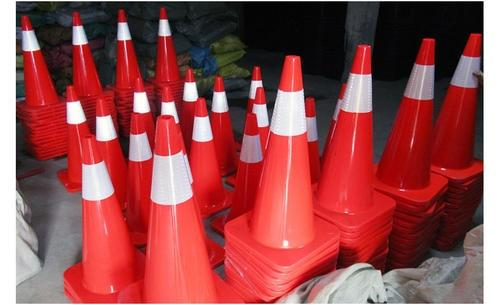cone_barrel: (137, 112, 215, 304), (247, 55, 320, 249), (315, 43, 383, 215), (72, 135, 137, 295), (374, 38, 440, 190), (433, 31, 482, 174), (185, 97, 224, 210), (16, 15, 59, 105), (59, 85, 92, 187), (67, 10, 102, 97), (110, 8, 146, 88), (230, 111, 262, 200), (208, 76, 236, 171), (93, 97, 125, 168), (152, 5, 182, 79), (302, 95, 319, 178), (180, 65, 198, 134)
